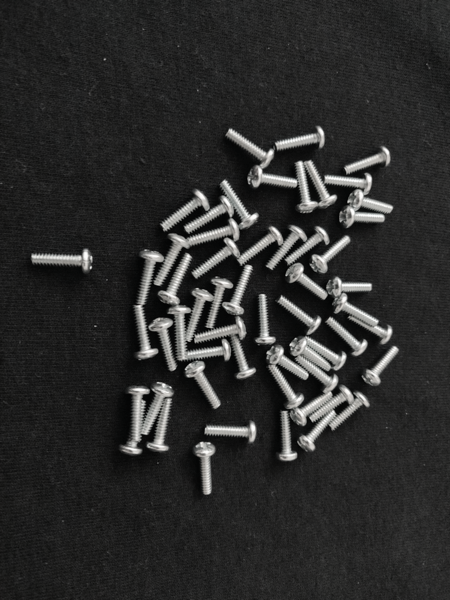shortscrew: (160, 189, 210, 232), (226, 128, 275, 170), (220, 180, 260, 230), (157, 252, 193, 306), (276, 296, 323, 337), (153, 234, 189, 287), (184, 196, 234, 234), (237, 226, 284, 266), (142, 382, 176, 437), (184, 360, 221, 410), (285, 226, 331, 266), (267, 225, 307, 271), (332, 292, 380, 328), (309, 235, 352, 275), (326, 317, 369, 357), (297, 410, 337, 453), (309, 385, 354, 423), (31, 248, 94, 275), (295, 355, 340, 392), (135, 249, 164, 306), (305, 159, 338, 209), (222, 264, 253, 317), (330, 391, 371, 431), (123, 385, 151, 443), (148, 318, 178, 372), (185, 288, 214, 343), (193, 316, 248, 345), (144, 400, 173, 455), (303, 337, 348, 372), (204, 277, 234, 329), (132, 305, 159, 362), (362, 346, 400, 386), (343, 145, 392, 176), (289, 337, 332, 372), (167, 306, 193, 362), (275, 125, 326, 151), (294, 161, 319, 214), (229, 336, 256, 382), (249, 165, 298, 190), (184, 338, 231, 364), (254, 294, 277, 347), (194, 442, 216, 495), (347, 189, 393, 214), (276, 411, 299, 461), (323, 173, 373, 195), (203, 421, 258, 441), (339, 206, 386, 228), (326, 277, 373, 297)
